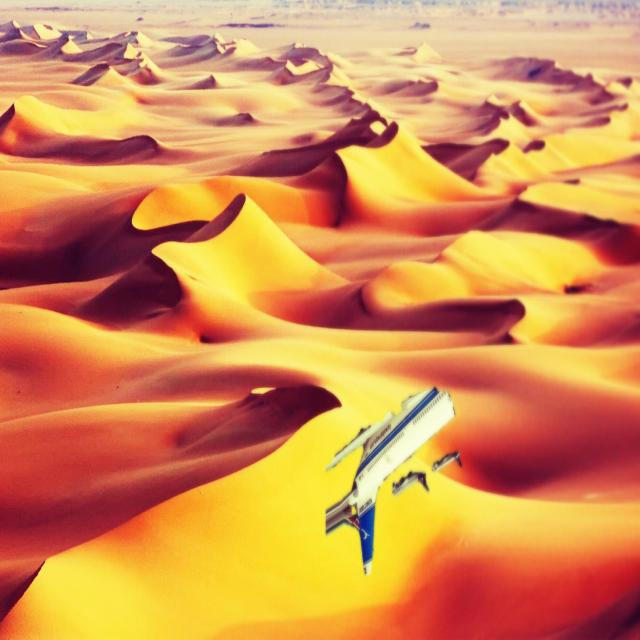airplane: (324, 384, 462, 576)
